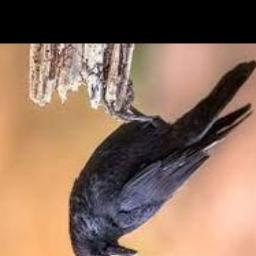Crow: (70, 60, 256, 256)
